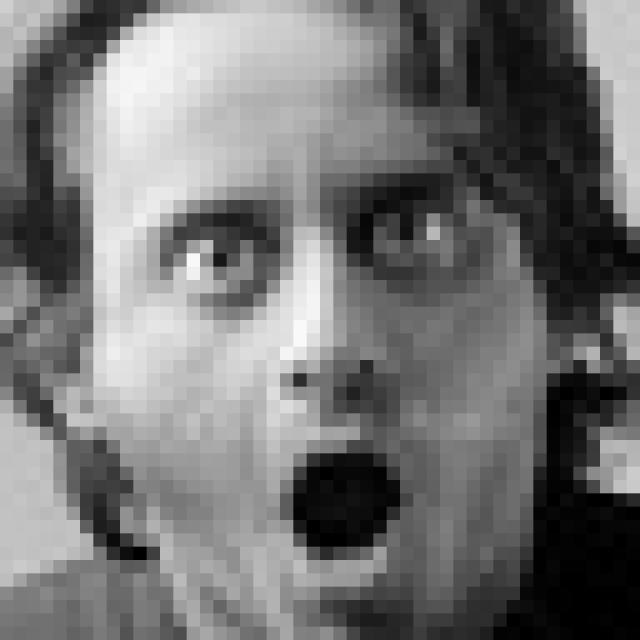surprise: (126, 133, 508, 614)
